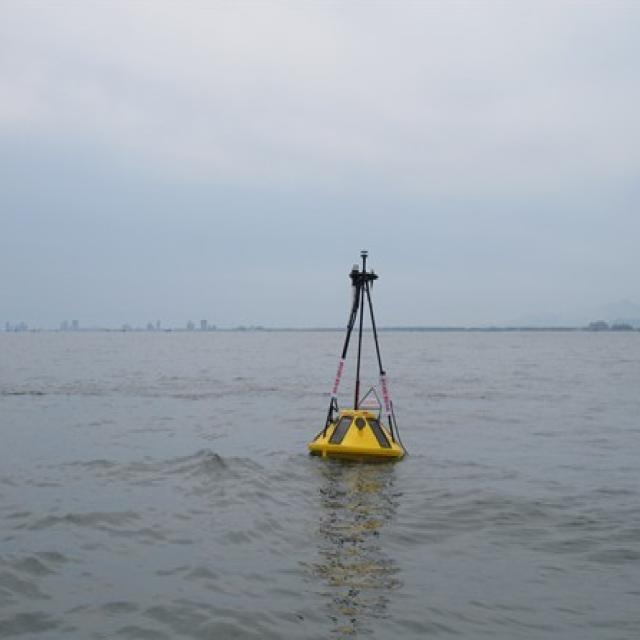buoy: (310, 240, 410, 464)
